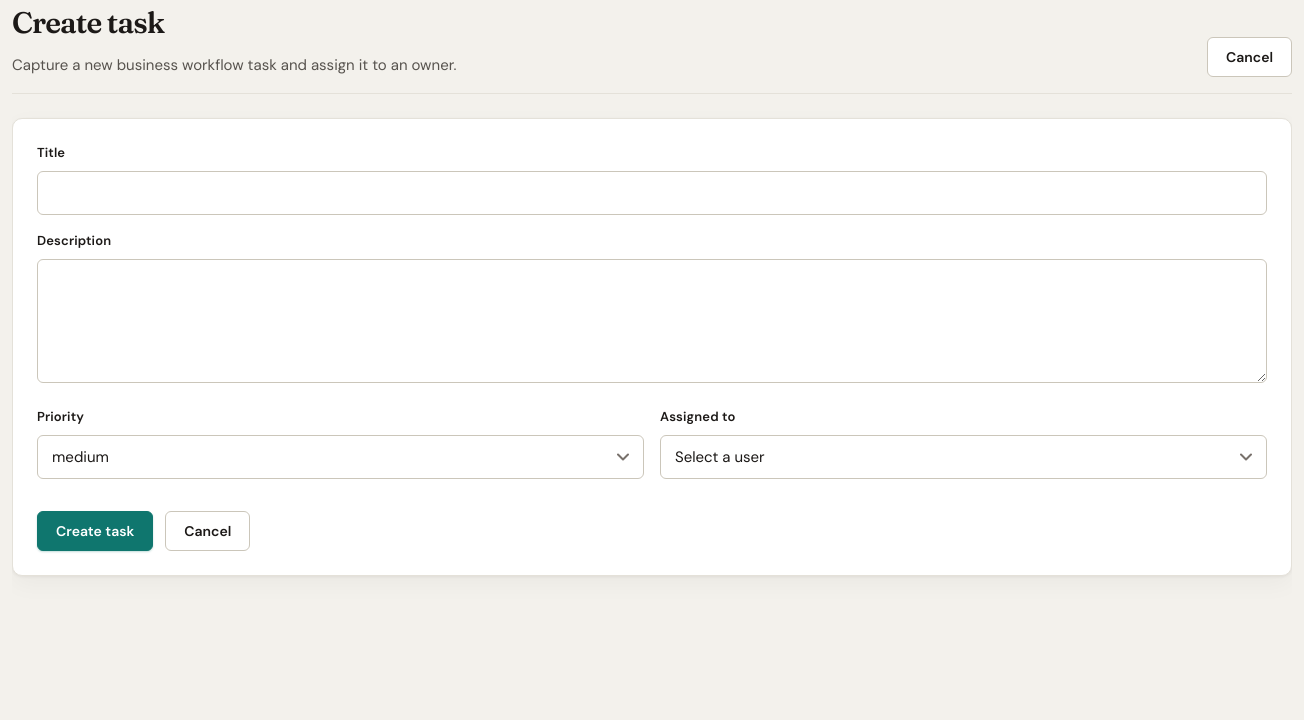
it: CreateTaskPage › shows validation errors when required fields are missing
The image size is (1304, 720).
Check: the field labelled "Title" is shown, box [37,171,1267,215]
Click the button "Create task" at (95, 531), box [37,511,153,551]
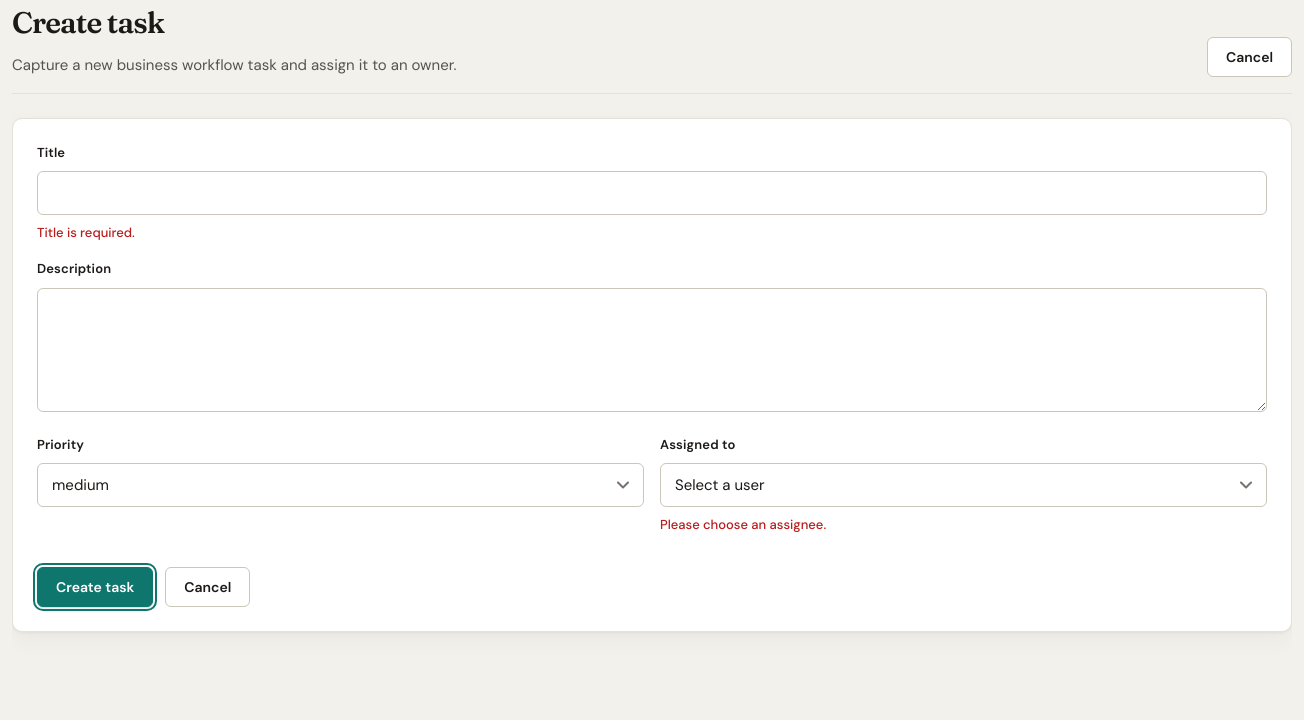
Check: the text "Title is required." is shown, box [37,224,135,241]
Check: the text "Please choose an assignee." is shown, box [660,516,826,533]
